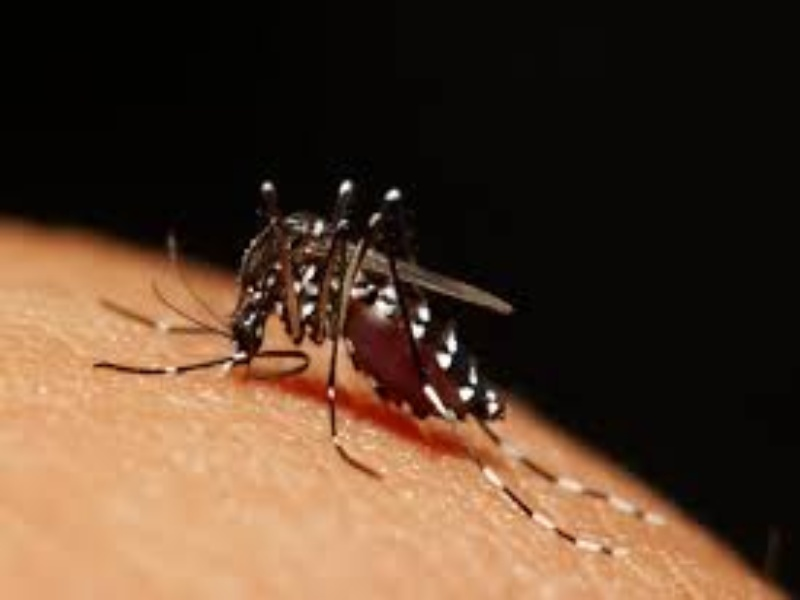dengue_mosquito: (118, 179, 525, 466)
